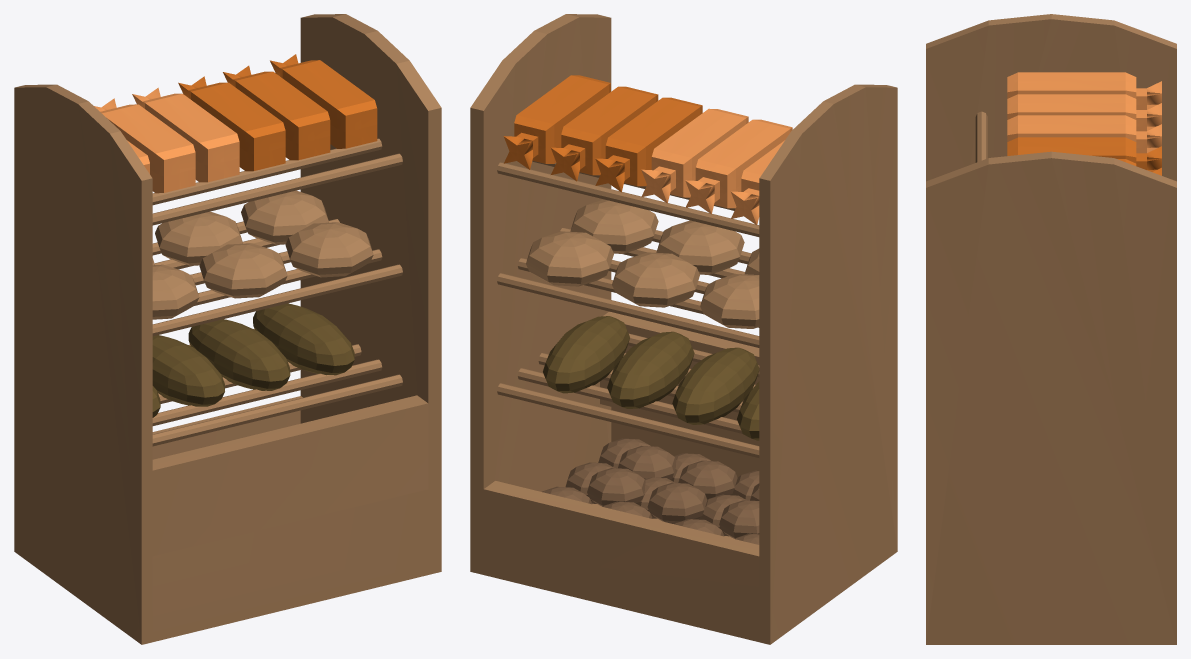
Rendered from SM_breadShelve_01.glb.
3 views of the same model, side by side, from view 1: azimuth 30°, elevation 25°; view 2: azimuth 150°, elevation 25°; view 3: azimuth 270°, elevation 25° (orthographic).
Parts seen in each view (by area): view 1: SM_breadShelve_01; view 2: SM_breadShelve_01; view 3: SM_breadShelve_01.
Boxes of the visible parts, x1=… form: SM_breadShelve_01: x1=14, y1=14, x2=441, y2=644; SM_breadShelve_01: x1=470, y1=14, x2=897, y2=644; SM_breadShelve_01: x1=926, y1=14, x2=1176, y2=644.
Size of the model in its own units: 1 by 1.58 by 0.7359.
1 material, 1 textured.
